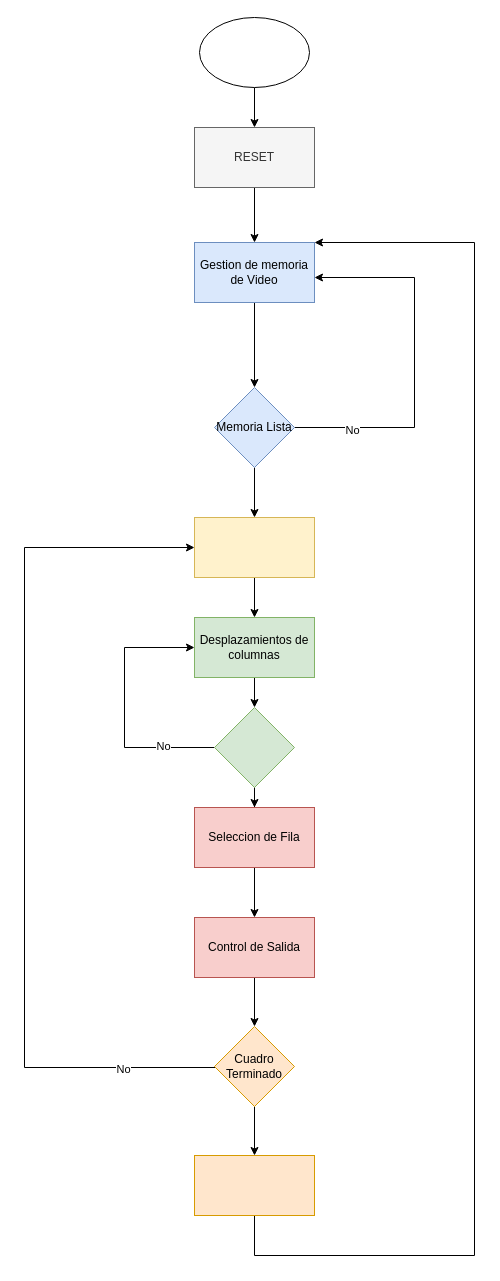
The diagram is 500 pixels wide and 1281 high, and some of its shapes have lost their labels. The box of each missing label's shape, as (x1, y1, x2, y2) in pixels:
Estraccion y ordenamiento de datos: (194, 516, 314, 578)
Filla full: (214, 706, 294, 788)
INICIO: (198, 16, 310, 88)
Sincronizacion y Ciclo: (194, 1154, 314, 1216)
